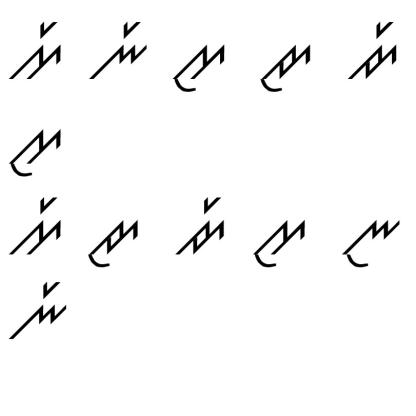jar: (170, 193, 229, 262), (348, 17, 403, 81)
jaw: (254, 39, 318, 96), (83, 212, 140, 272)
nyar: (89, 17, 152, 83), (8, 278, 70, 343)
nyaw: (336, 211, 402, 271)
sar: (8, 17, 67, 82), (9, 195, 64, 259)
saw: (171, 34, 231, 95), (251, 210, 308, 269), (5, 124, 66, 179)
